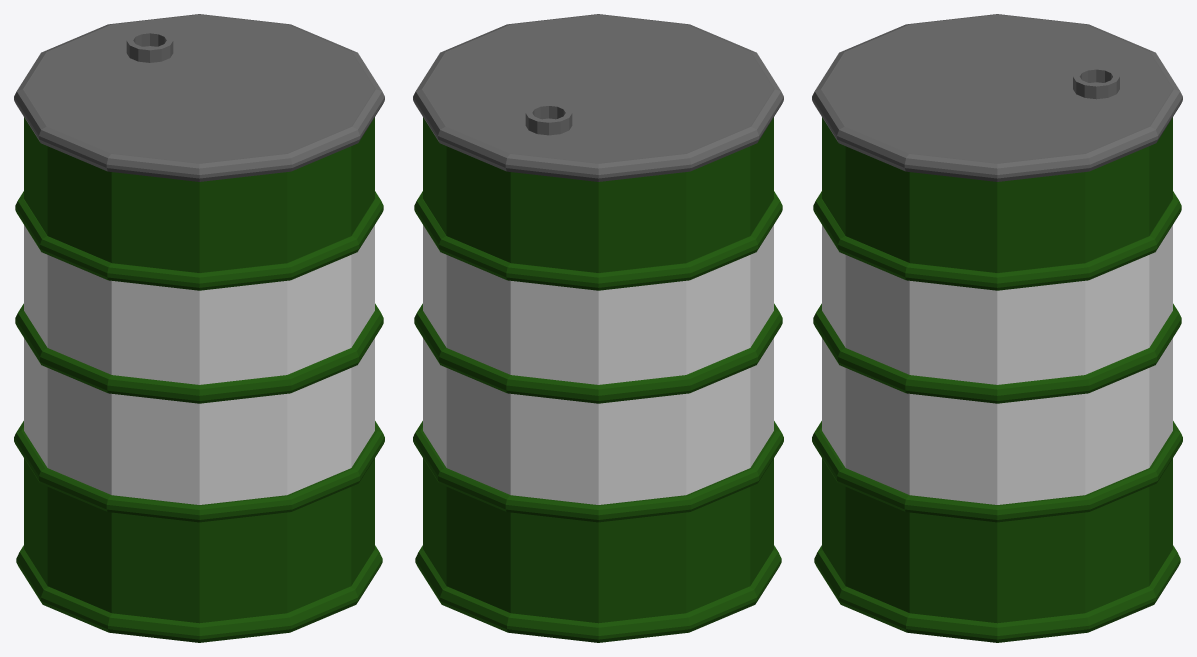
The model's file is Barrel1.fbx.
3 views of the same model, side by side, from view 1: azimuth 30°, elevation 25°; view 2: azimuth 150°, elevation 25°; view 3: azimuth 270°, elevation 25° (orthographic).
Visible parts, largest first — view 1: Cylinder; view 2: Cylinder; view 3: Cylinder.
Part boxes in pixels (<box>): Cylinder: <box>14,14,384,642</box>; Cylinder: <box>413,14,783,642</box>; Cylinder: <box>812,14,1182,642</box>.
Size of the model in its own units: 212 by 309 by 212.
